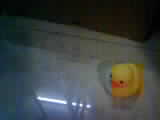duck: (96, 49, 150, 98)
